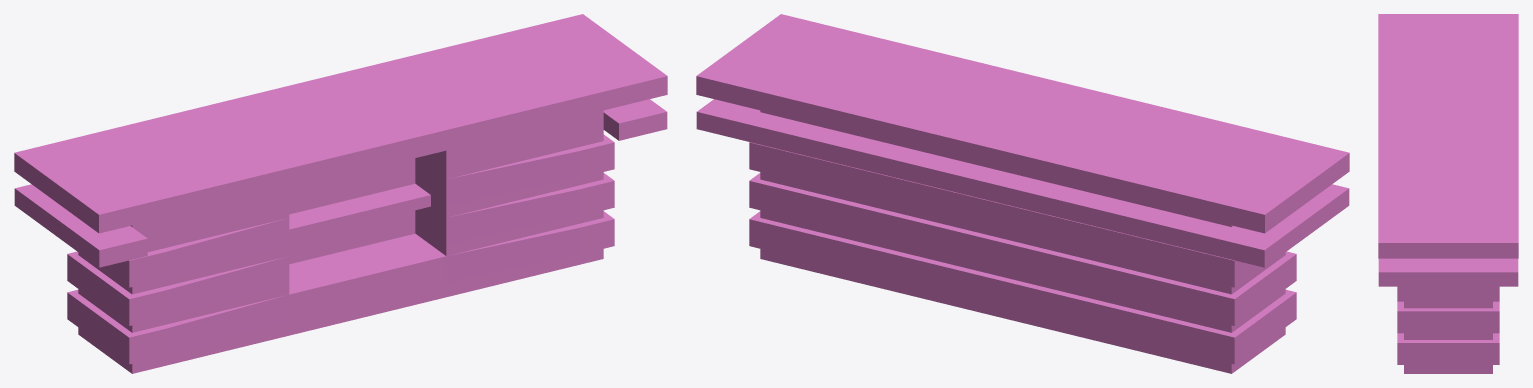
Rendered from bar_untextured (1).fbx.
3 views of the same model, side by side, from view 1: azimuth 30°, elevation 25°; view 2: azimuth 150°, elevation 25°; view 3: azimuth 270°, elevation 25° (orthographic). The views are drawn at different scales.
Visible parts, largest first — view 1: Cube; view 2: Cube; view 3: Cube.
Part boxes in pixels (x1,y1,x2,y2): Cube: [14, 14, 667, 373]; Cube: [696, 14, 1349, 373]; Cube: [1378, 14, 1518, 373].
Bounding box in the file's own units: 100 × 30.75 × 25.93.
